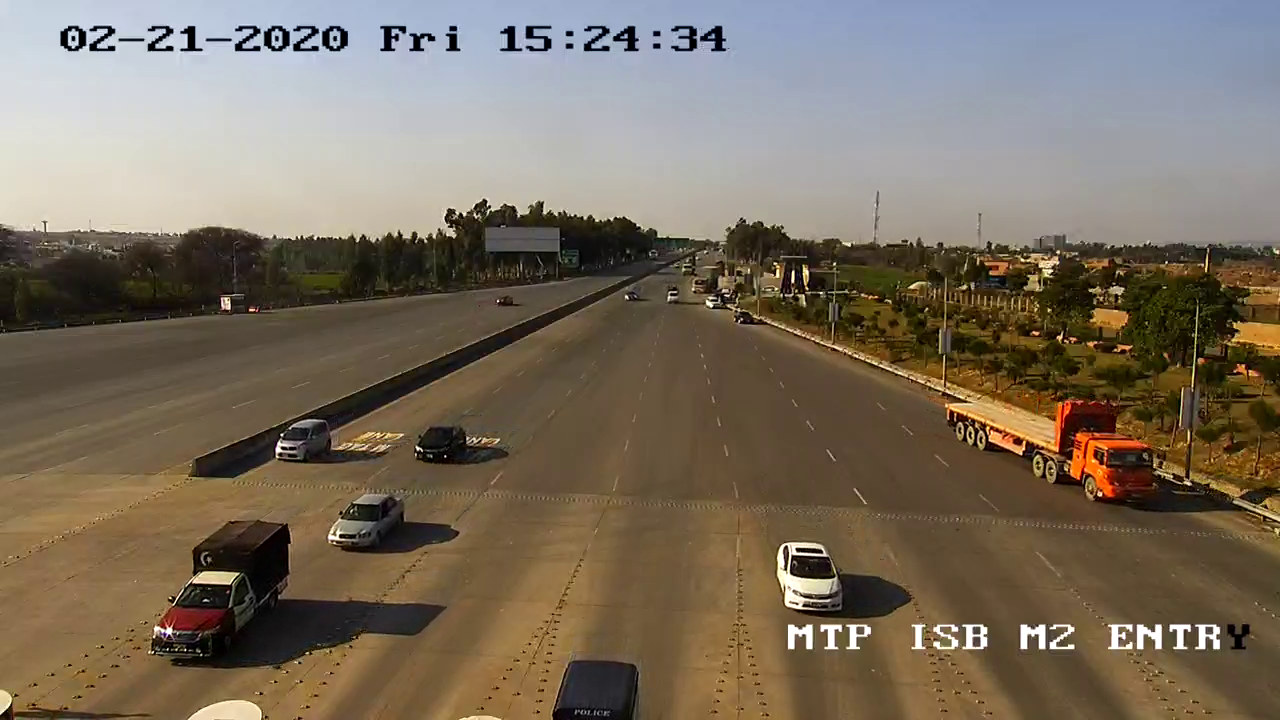f1: (145, 511, 302, 666), (322, 484, 415, 560), (770, 535, 856, 617)
f6: (934, 390, 1167, 510)
